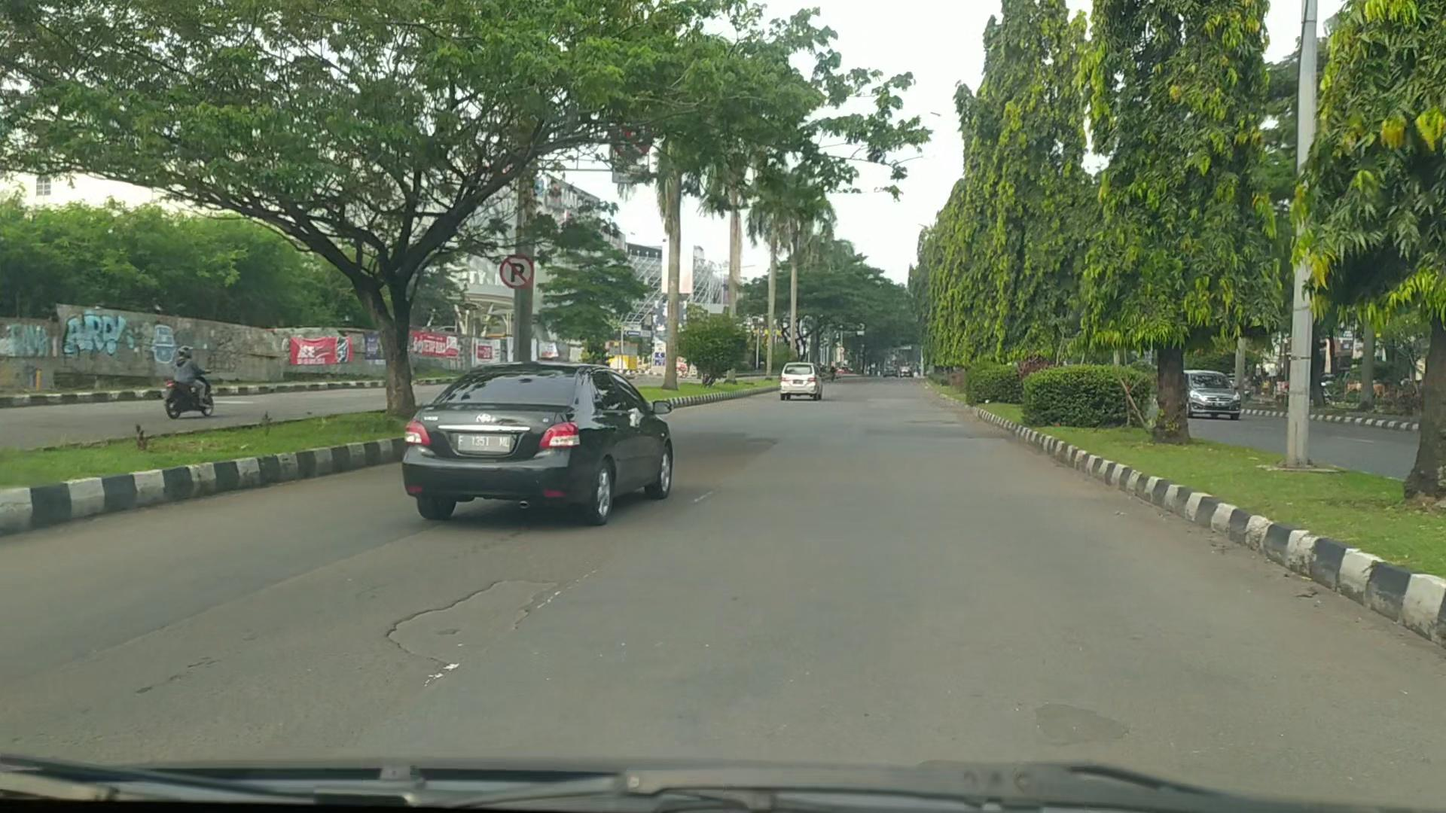pothole: (387, 578, 561, 665)
